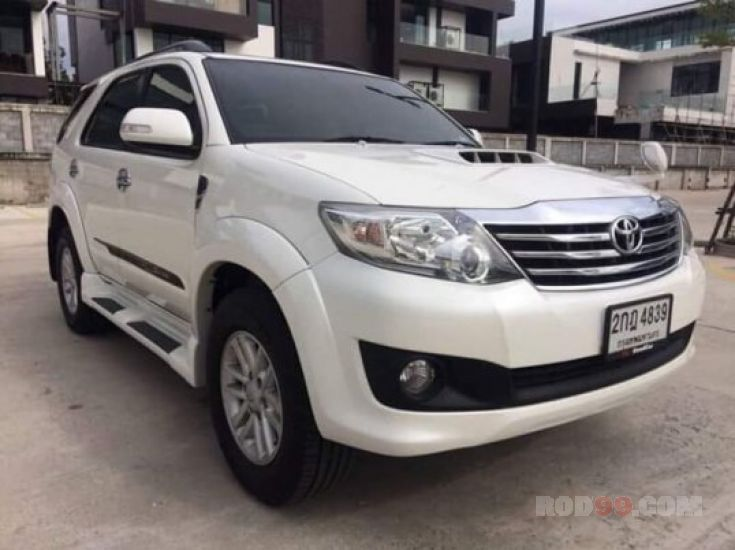pickup: (43, 38, 706, 507)
